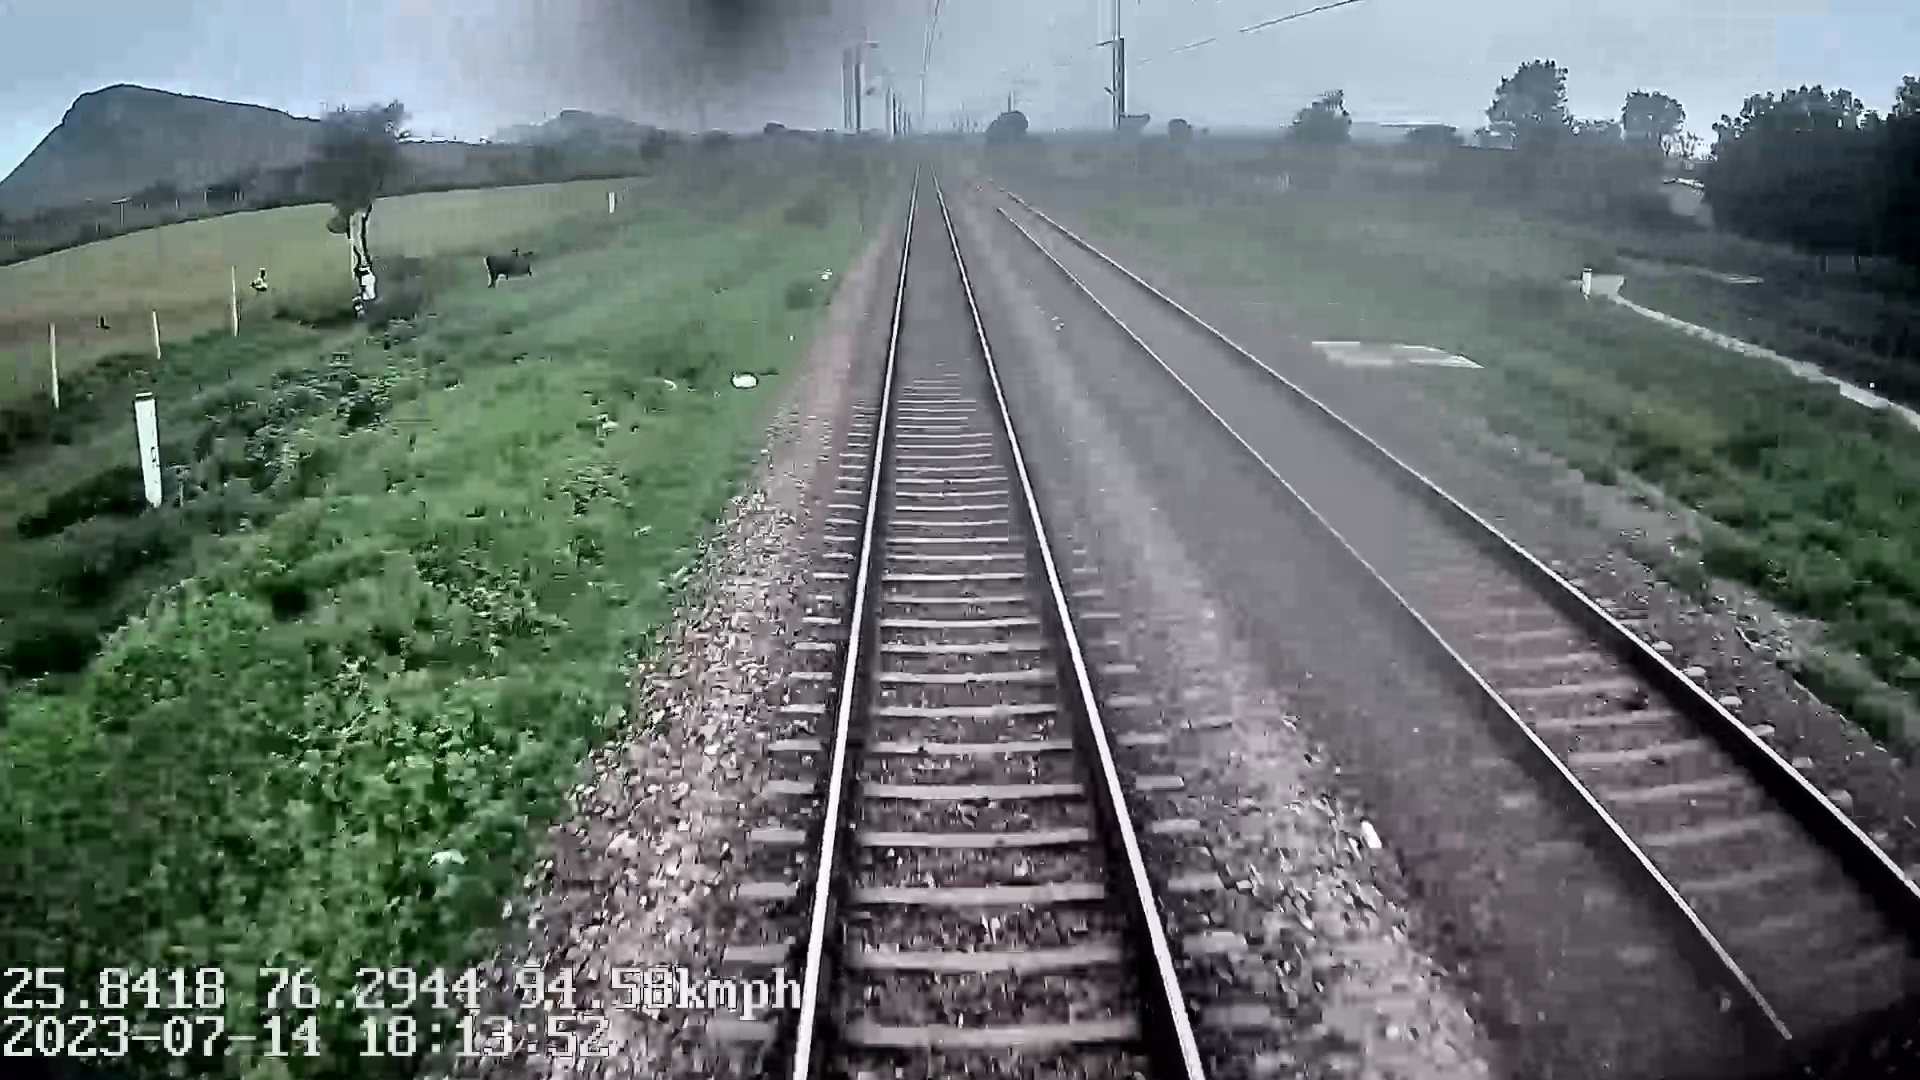track1: (803, 165, 1195, 1068)
track2: (996, 200, 1919, 1031)
